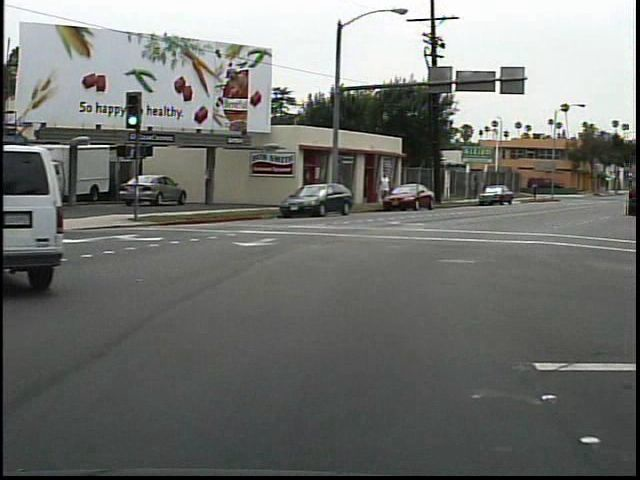person: (374, 166, 397, 210), (528, 177, 542, 203)
